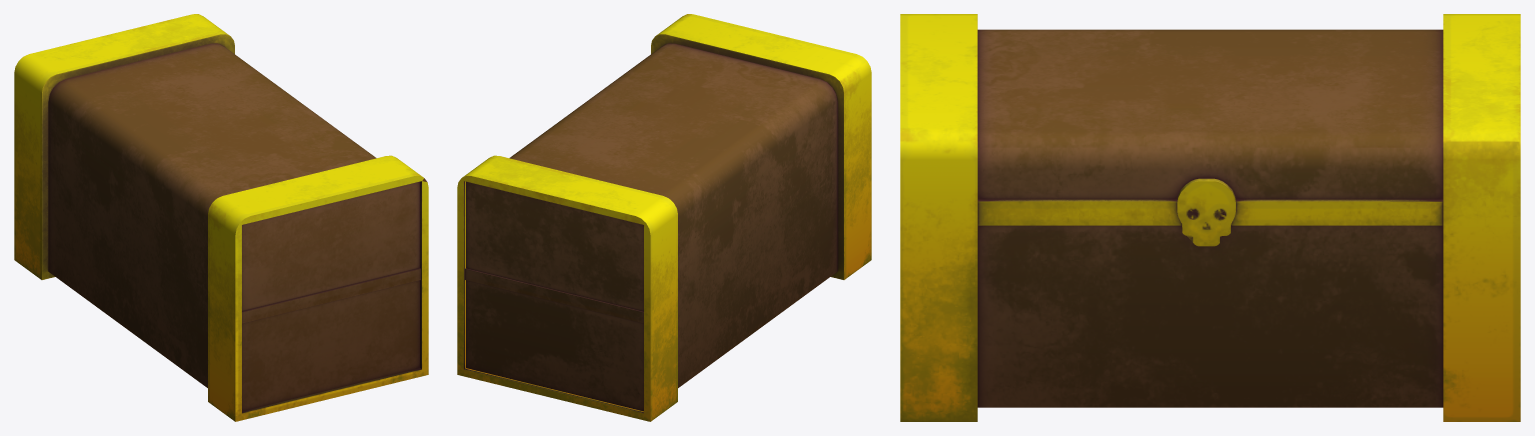
File: Chest_01.fbx
The picture shows the model from 3 angles, left to right: view 1: azimuth 30°, elevation 25°; view 2: azimuth 150°, elevation 25°; view 3: azimuth 270°, elevation 25°; orthographic projection. The views are drawn at different scales.
Visible parts, largest first — view 1: Chest_01; view 2: Chest_01; view 3: Chest_01.
Part boxes in pixels (x1,y1,x2,y2): Chest_01: (14,14,428,421); Chest_01: (457,14,871,421); Chest_01: (900,14,1520,421).
Bounding box in the file's own units: 37.31 × 37.28 × 73.9.
2 materials, 2 textured.
